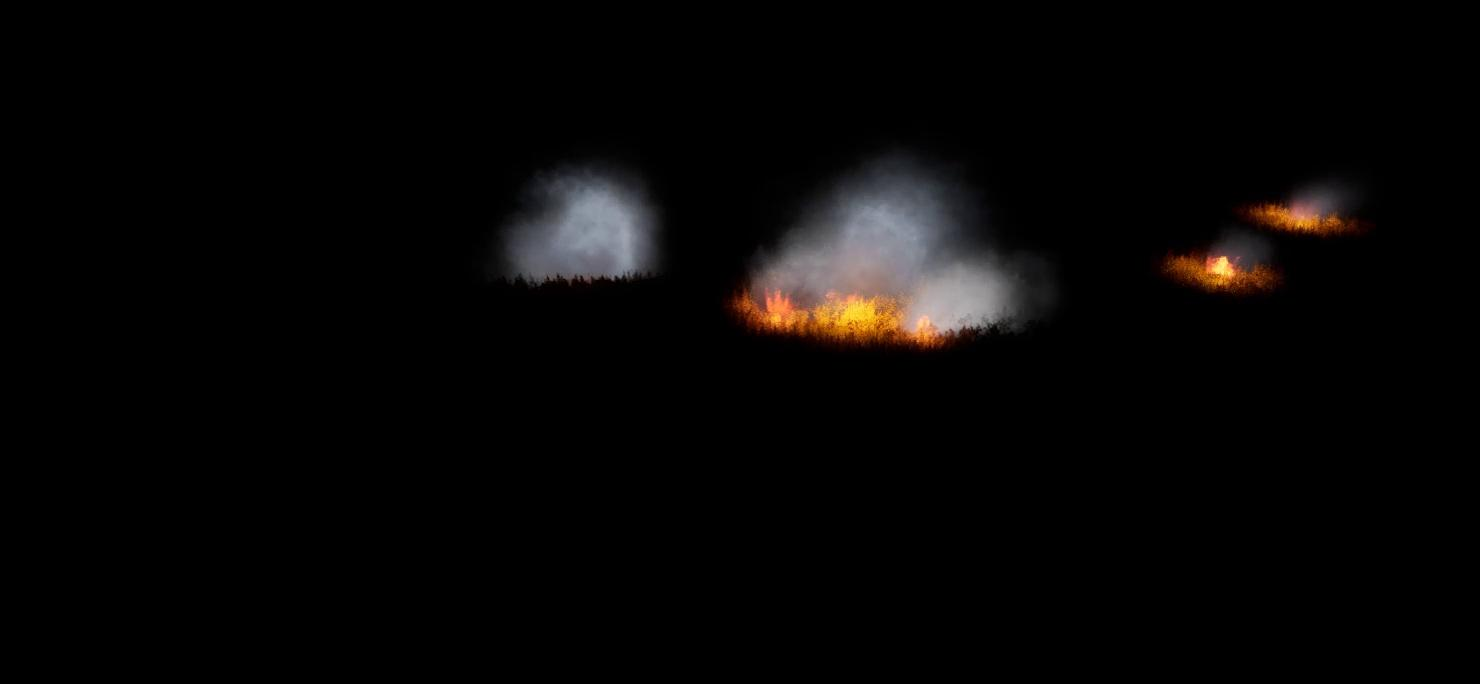fire: (733, 281, 945, 350), (1210, 253, 1242, 281)
smoke: (750, 147, 1062, 335), (508, 154, 660, 287), (1209, 235, 1272, 284), (1287, 181, 1347, 226)
